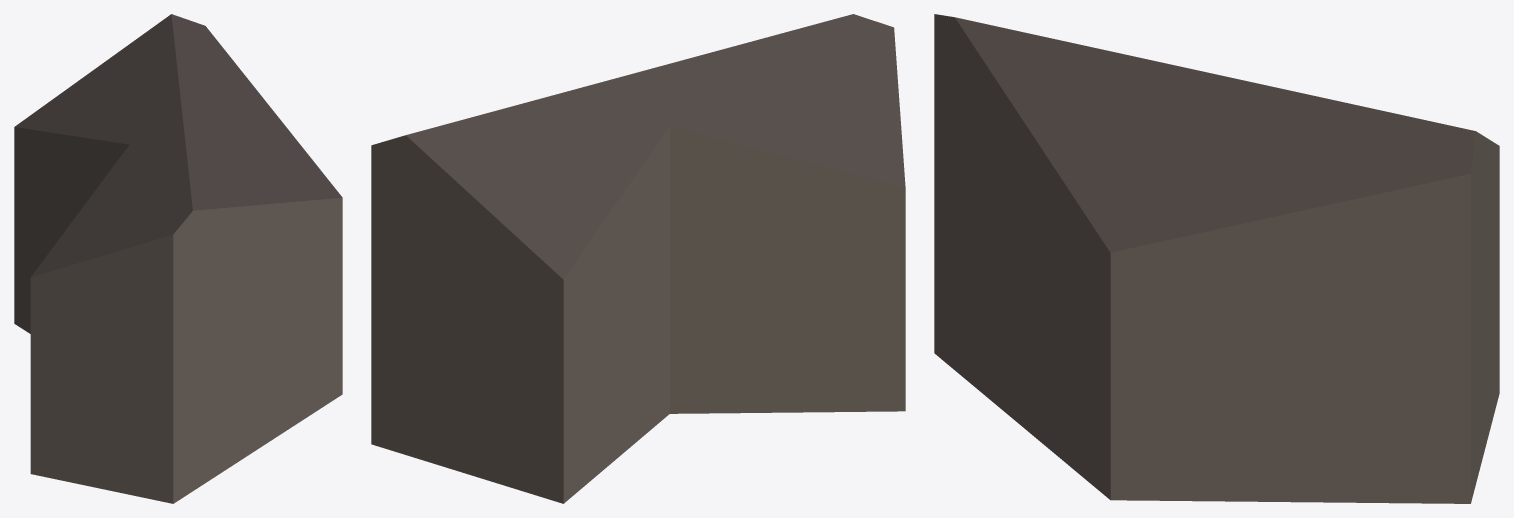
3 views of the same model, side by side, from view 1: azimuth 30°, elevation 25°; view 2: azimuth 150°, elevation 25°; view 3: azimuth 270°, elevation 25° (orthographic). The views are drawn at different scales.
Visible parts, largest first — view 1: HP-w1515071122; view 2: HP-w1515071122; view 3: HP-w1515071122.
Boxes of the visible parts, bbox=[...] form: HP-w1515071122: bbox=[14, 14, 342, 503]; HP-w1515071122: bbox=[371, 14, 905, 503]; HP-w1515071122: bbox=[934, 14, 1499, 503].
Bounding box in the file's own units: 10.27 × 8.56 × 12.42.
